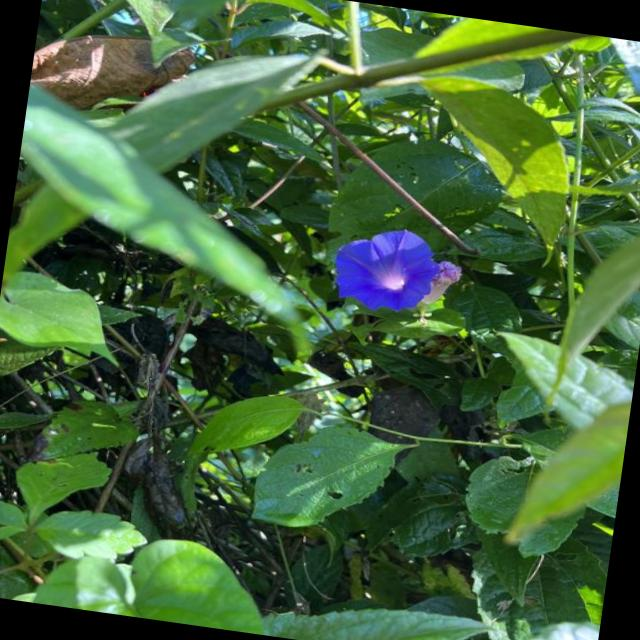ipomoea: (324, 218, 449, 324)
